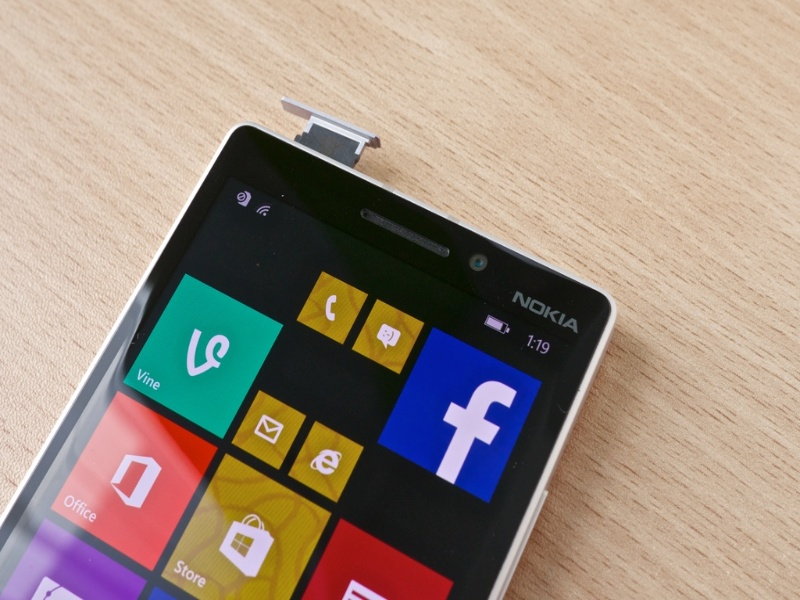Mobile Phone: (2, 50, 654, 600)
